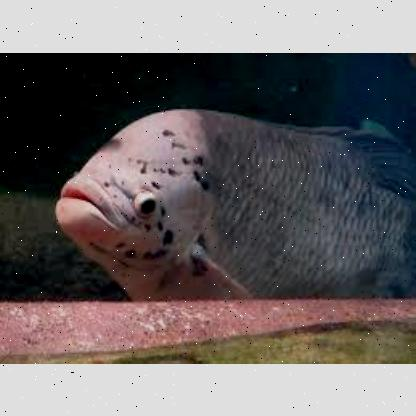gurame: (60, 107, 412, 294)
